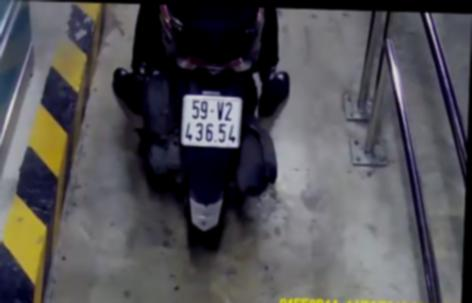License_Plate: (176, 91, 246, 156)
